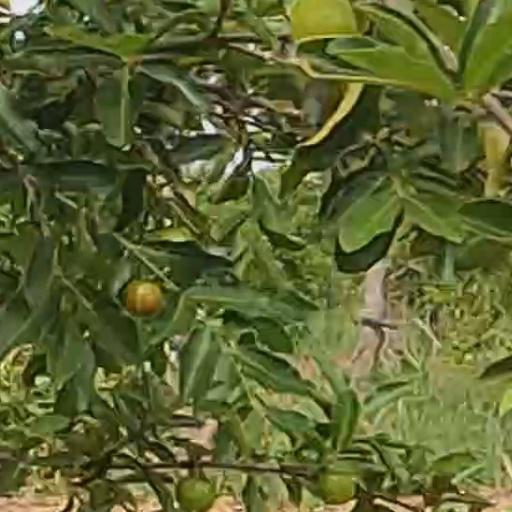acerola_verde: (177, 478, 216, 511), (318, 475, 354, 504)
acerola_vermelha: (124, 281, 163, 315)
